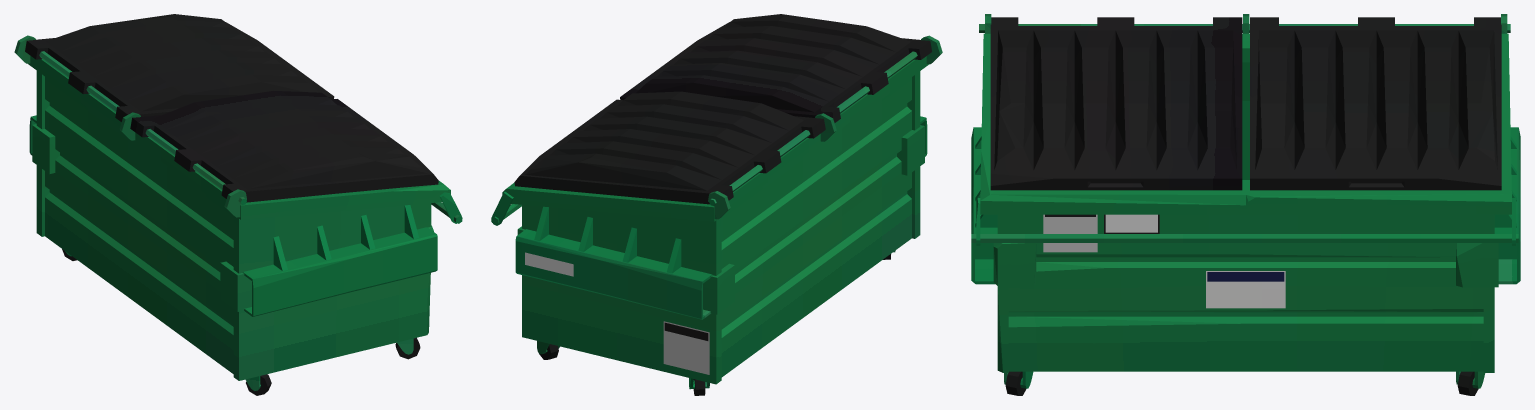
File: LargeTrash00.fbx
The picture shows the model from 3 angles, left to right: view 1: azimuth 30°, elevation 25°; view 2: azimuth 150°, elevation 25°; view 3: azimuth 270°, elevation 25°; orthographic projection. The views are drawn at different scales.
Parts seen in each view (by area): view 1: SM_City_LargeTrash_01.mo; view 2: SM_City_LargeTrash_01.mo; view 3: SM_City_LargeTrash_01.mo.
Boxes of the visible parts, left/top/right/bottom form: SM_City_LargeTrash_01.mo: left=14, top=14, right=462, bottom=395; SM_City_LargeTrash_01.mo: left=491, top=14, right=942, bottom=395; SM_City_LargeTrash_01.mo: left=971, top=14, right=1520, bottom=395.
Bounding box in the file's own units: 145 × 133 × 243.
